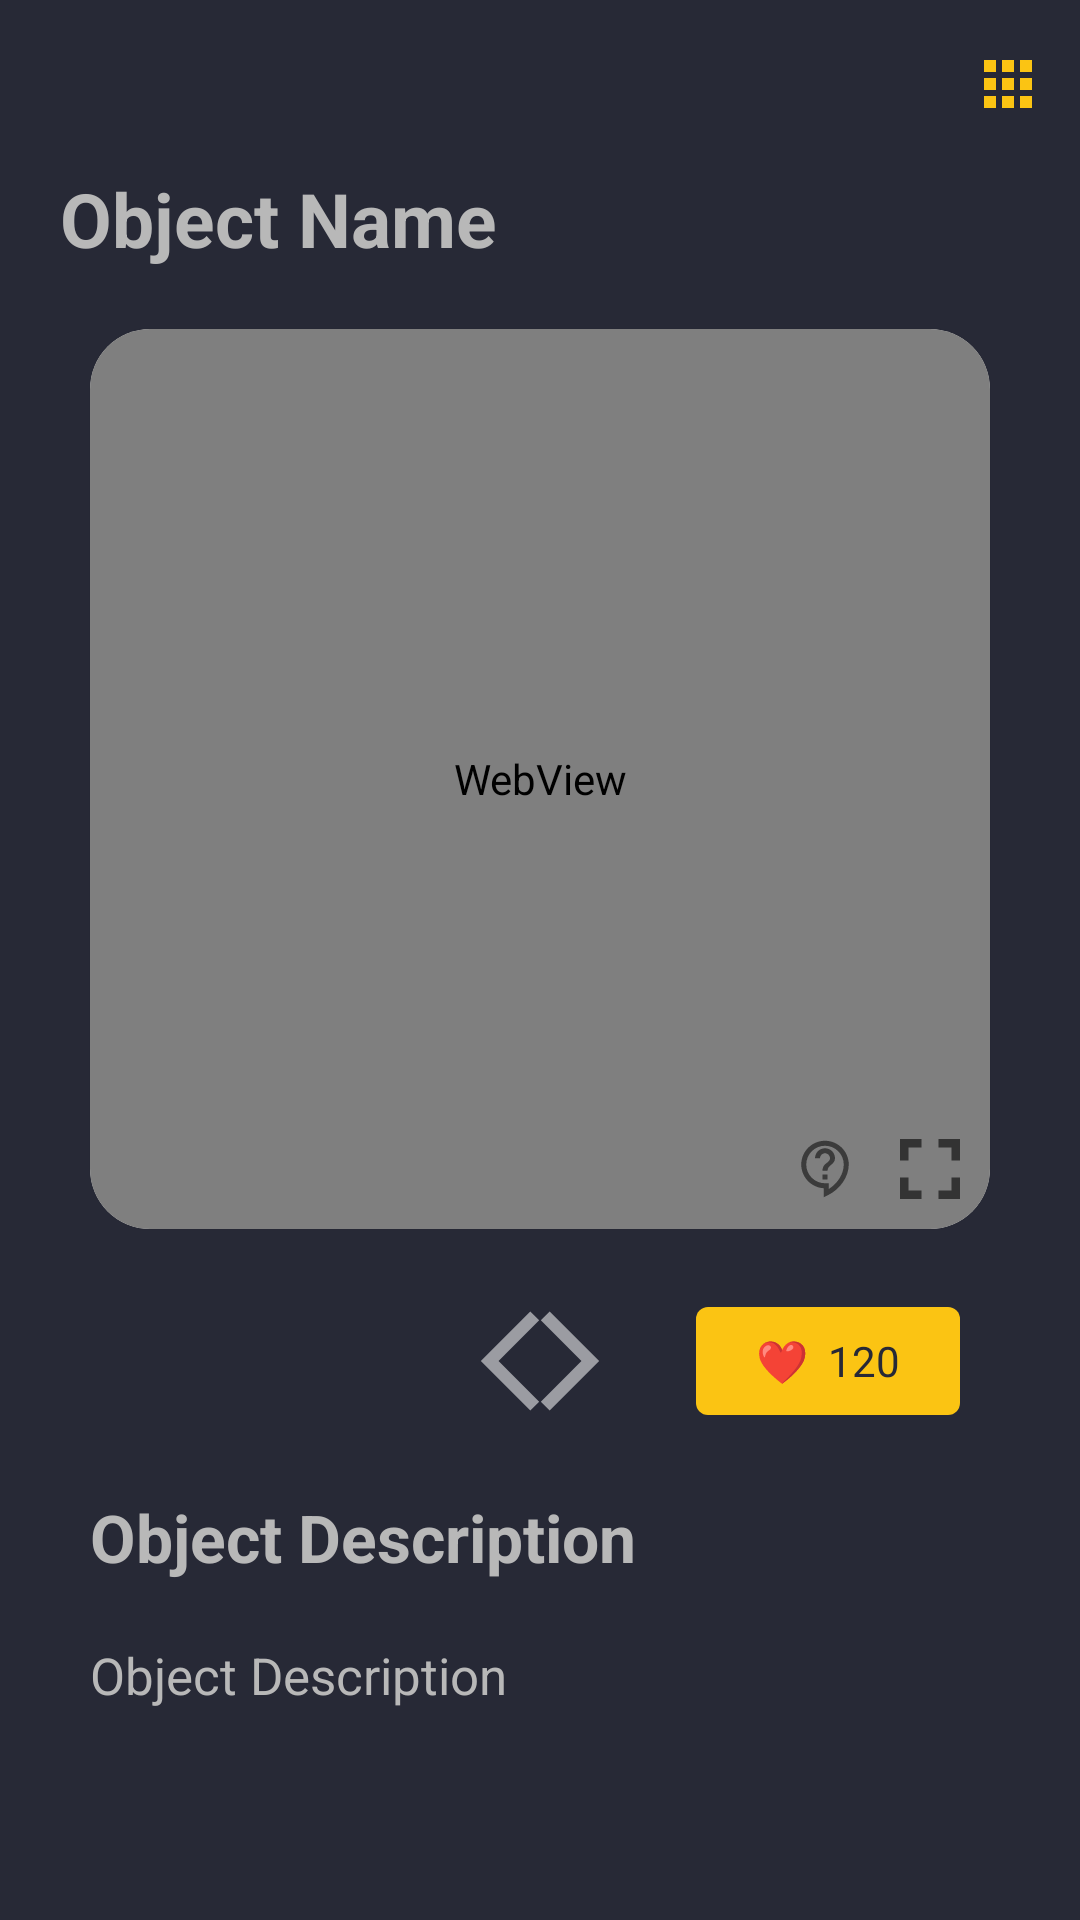

Icons on this 1080 x 1920 Android screen, each with its box as BBox(x1, y1, x2, y2):
fullscreen: BBox(900, 1139, 960, 1199)
help bubble: BBox(801, 1141, 849, 1197)
